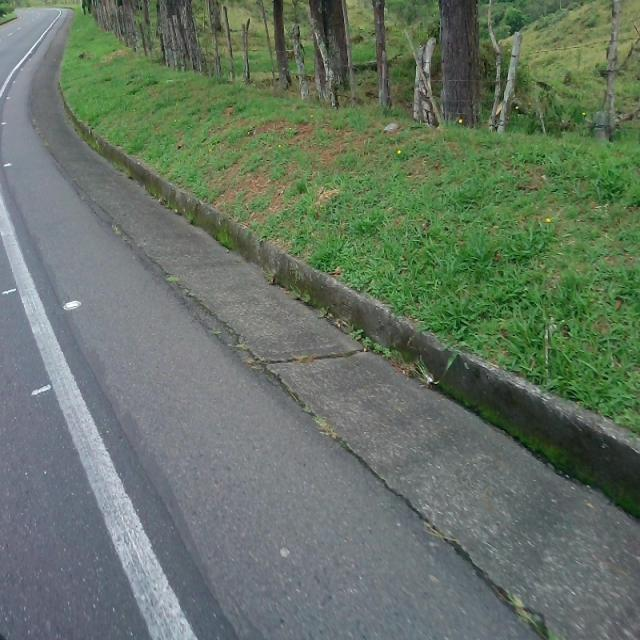DITCH: (4, 6, 638, 638), (1, 149, 639, 637)
